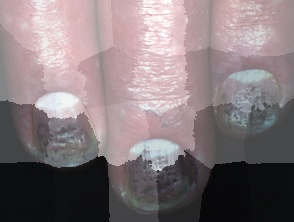Nail_psoriasis: (117, 132, 205, 220), (210, 62, 290, 142), (26, 105, 100, 170)
